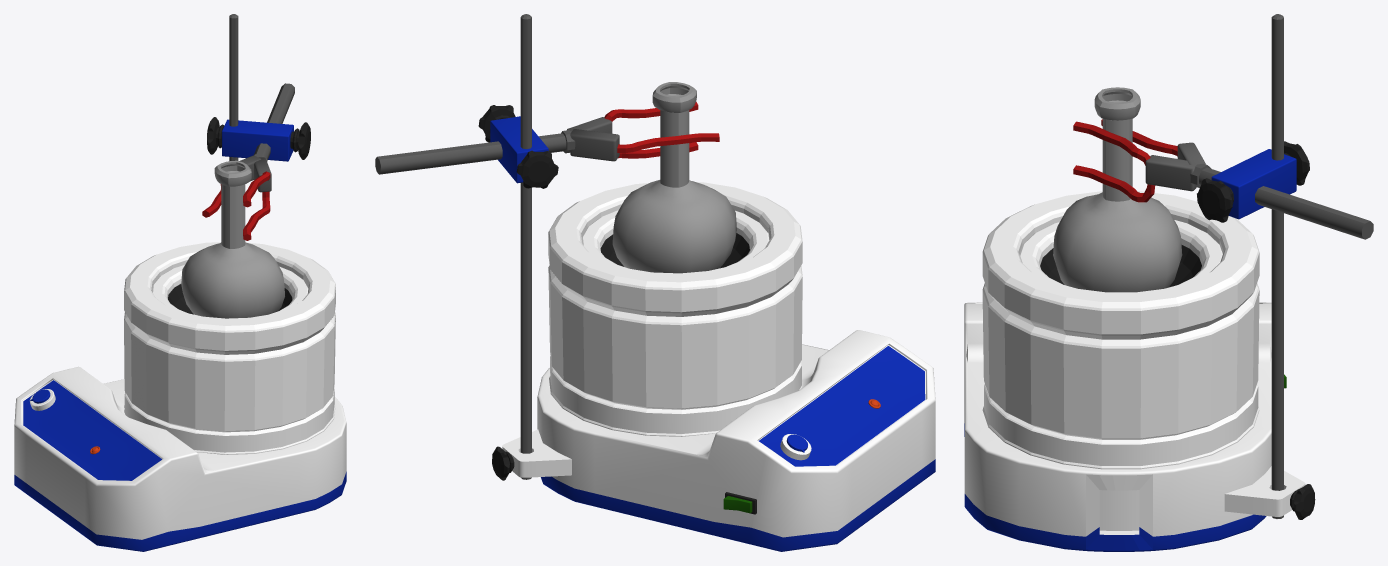
The model's file is CosoParaprobetas.fbx.
3 renders of one model, left to right at view 1: azimuth 30°, elevation 25°; view 2: azimuth 150°, elevation 25°; view 3: azimuth 270°, elevation 25°, orthographic. The views are drawn at different scales.
Parts seen in each view (by area): view 1: Box020, Cylinder026, Probeta grande001, Box024, Box023, Box030, Box025, Box032, Box031, Cylinder020; view 2: Box020, Cylinder026, Probeta grande001, Box023, Box025, Box022, Box024, Box026, Box031, Box030, Box028; view 3: Cylinder026, Box020, Probeta grande001, Box023, Box024, Box025, Box022, Box030, Box027, Box032, Box033, Box031 (+1 smaller).
Boxes of the visible parts, <box> form: Box020: <box>14,366,346,551</box>; Cylinder026: <box>124,242,335,454</box>; Probeta grande001: <box>181,160,284,318</box>; Box024: <box>222,119,293,161</box>; Box023: <box>229,14,238,161</box>; Box030: <box>243,171,270,240</box>; Box025: <box>253,83,294,161</box>; Box032: <box>290,122,310,159</box>; Box031: <box>207,117,224,154</box>; Cylinder020: <box>29,389,55,410</box>; Box020: <box>537,330,935,551</box>; Cylinder026: <box>548,182,802,436</box>; Probeta grande001: <box>612,82,736,273</box>; Box023: <box>520,14,531,479</box>; Box025: <box>375,130,575,174</box>; Box022: <box>502,429,571,477</box>; Box024: <box>490,116,548,183</box>; Box026: <box>570,129,619,161</box>; Box031: <box>516,150,558,188</box>; Box030: <box>604,102,698,158</box>; Box028: <box>617,133,719,152</box>; Cylinder026: <box>982,191,1259,469</box>; Box020: <box>964,302,1271,551</box>; Probeta grande001: <box>1053,87,1182,292</box>; Box023: <box>1271,14,1283,518</box>; Box024: <box>1211,149,1296,219</box>; Box025: <box>1190,163,1373,239</box>; Box022: <box>1224,466,1305,516</box>; Box030: <box>1073,121,1155,202</box>; Box027: <box>1145,155,1196,191</box>; Box032: <box>1197,178,1233,222</box>; Box033: <box>1290,484,1315,519</box>; Box031: <box>1284,141,1309,185</box>.
Bounding box in the file's own units: 65.26 × 76.12 × 53.39.
